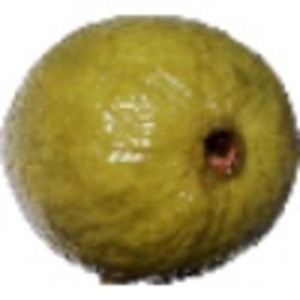goiaba: (6, 10, 296, 279)
